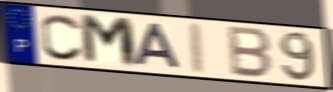9: (276, 30, 316, 83)
A: (132, 21, 184, 71)
B: (228, 24, 274, 81)
C: (39, 12, 86, 63)
I: (190, 21, 207, 76)
M: (78, 12, 140, 70)
